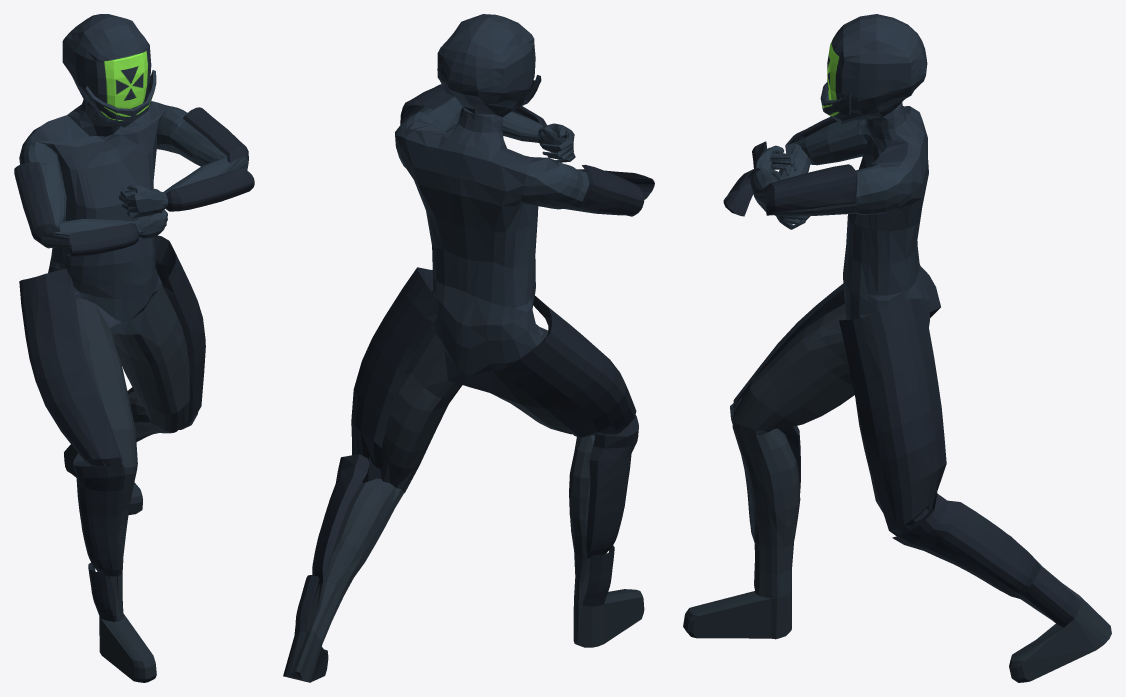
File: Bastion_WR_000008.obj
3 views of the same model, side by side, from view 1: azimuth 30°, elevation 25°; view 2: azimuth 150°, elevation 25°; view 3: azimuth 270°, elevation 25° (orthographic). The views are drawn at different scales.
Visible parts, largest first — view 1: Cube.002; view 2: Cube.002; view 3: Cube.002.
Part boxes in pixels (x1,y1,x2,y2): Cube.002: (14,14,254,682); Cube.002: (283,14,654,682); Cube.002: (683,14,1111,682).
Size of the model in its own units: 1.4 by 3.59 by 2.17.
